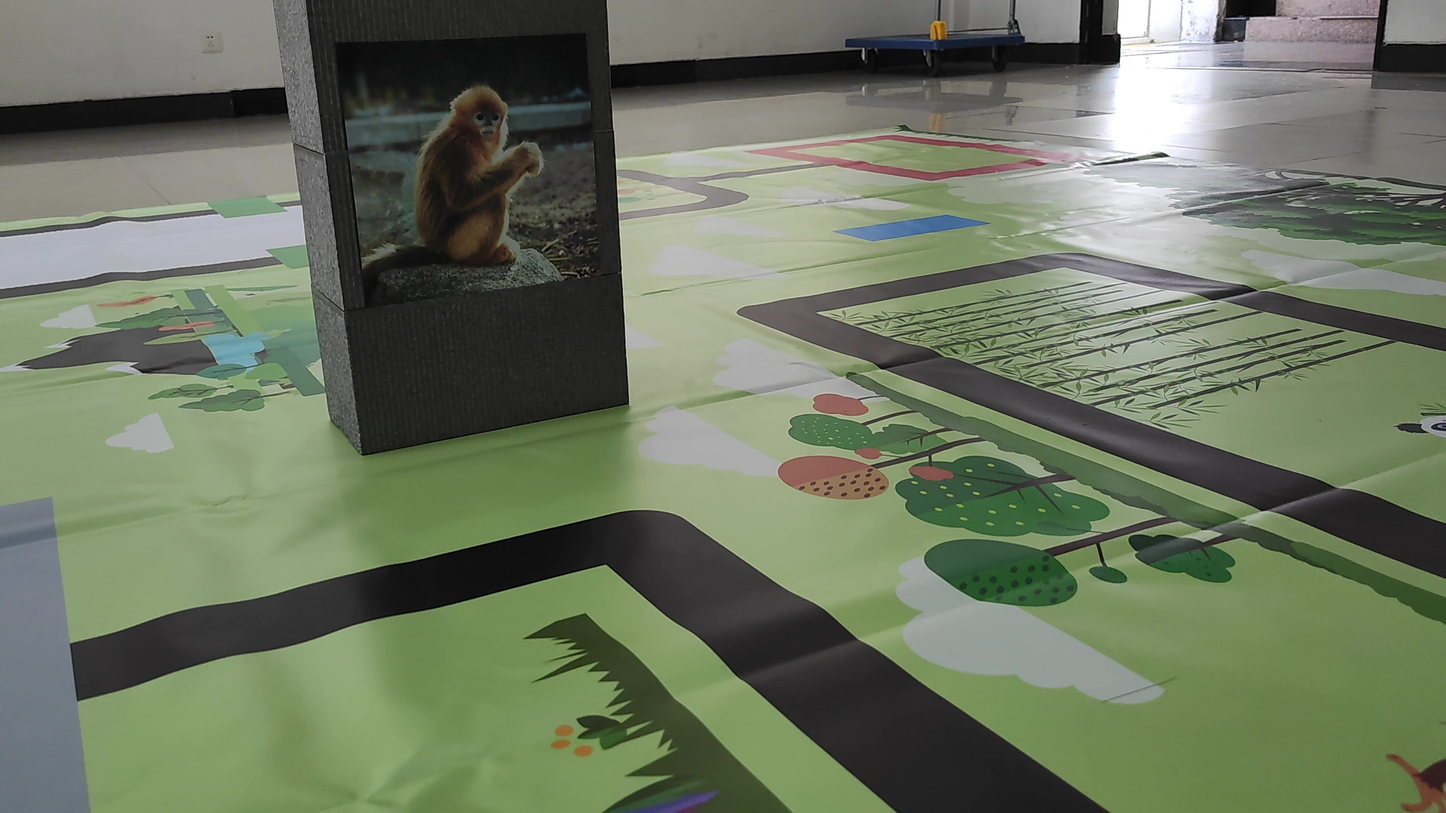monkey: (346, 76, 559, 295)
